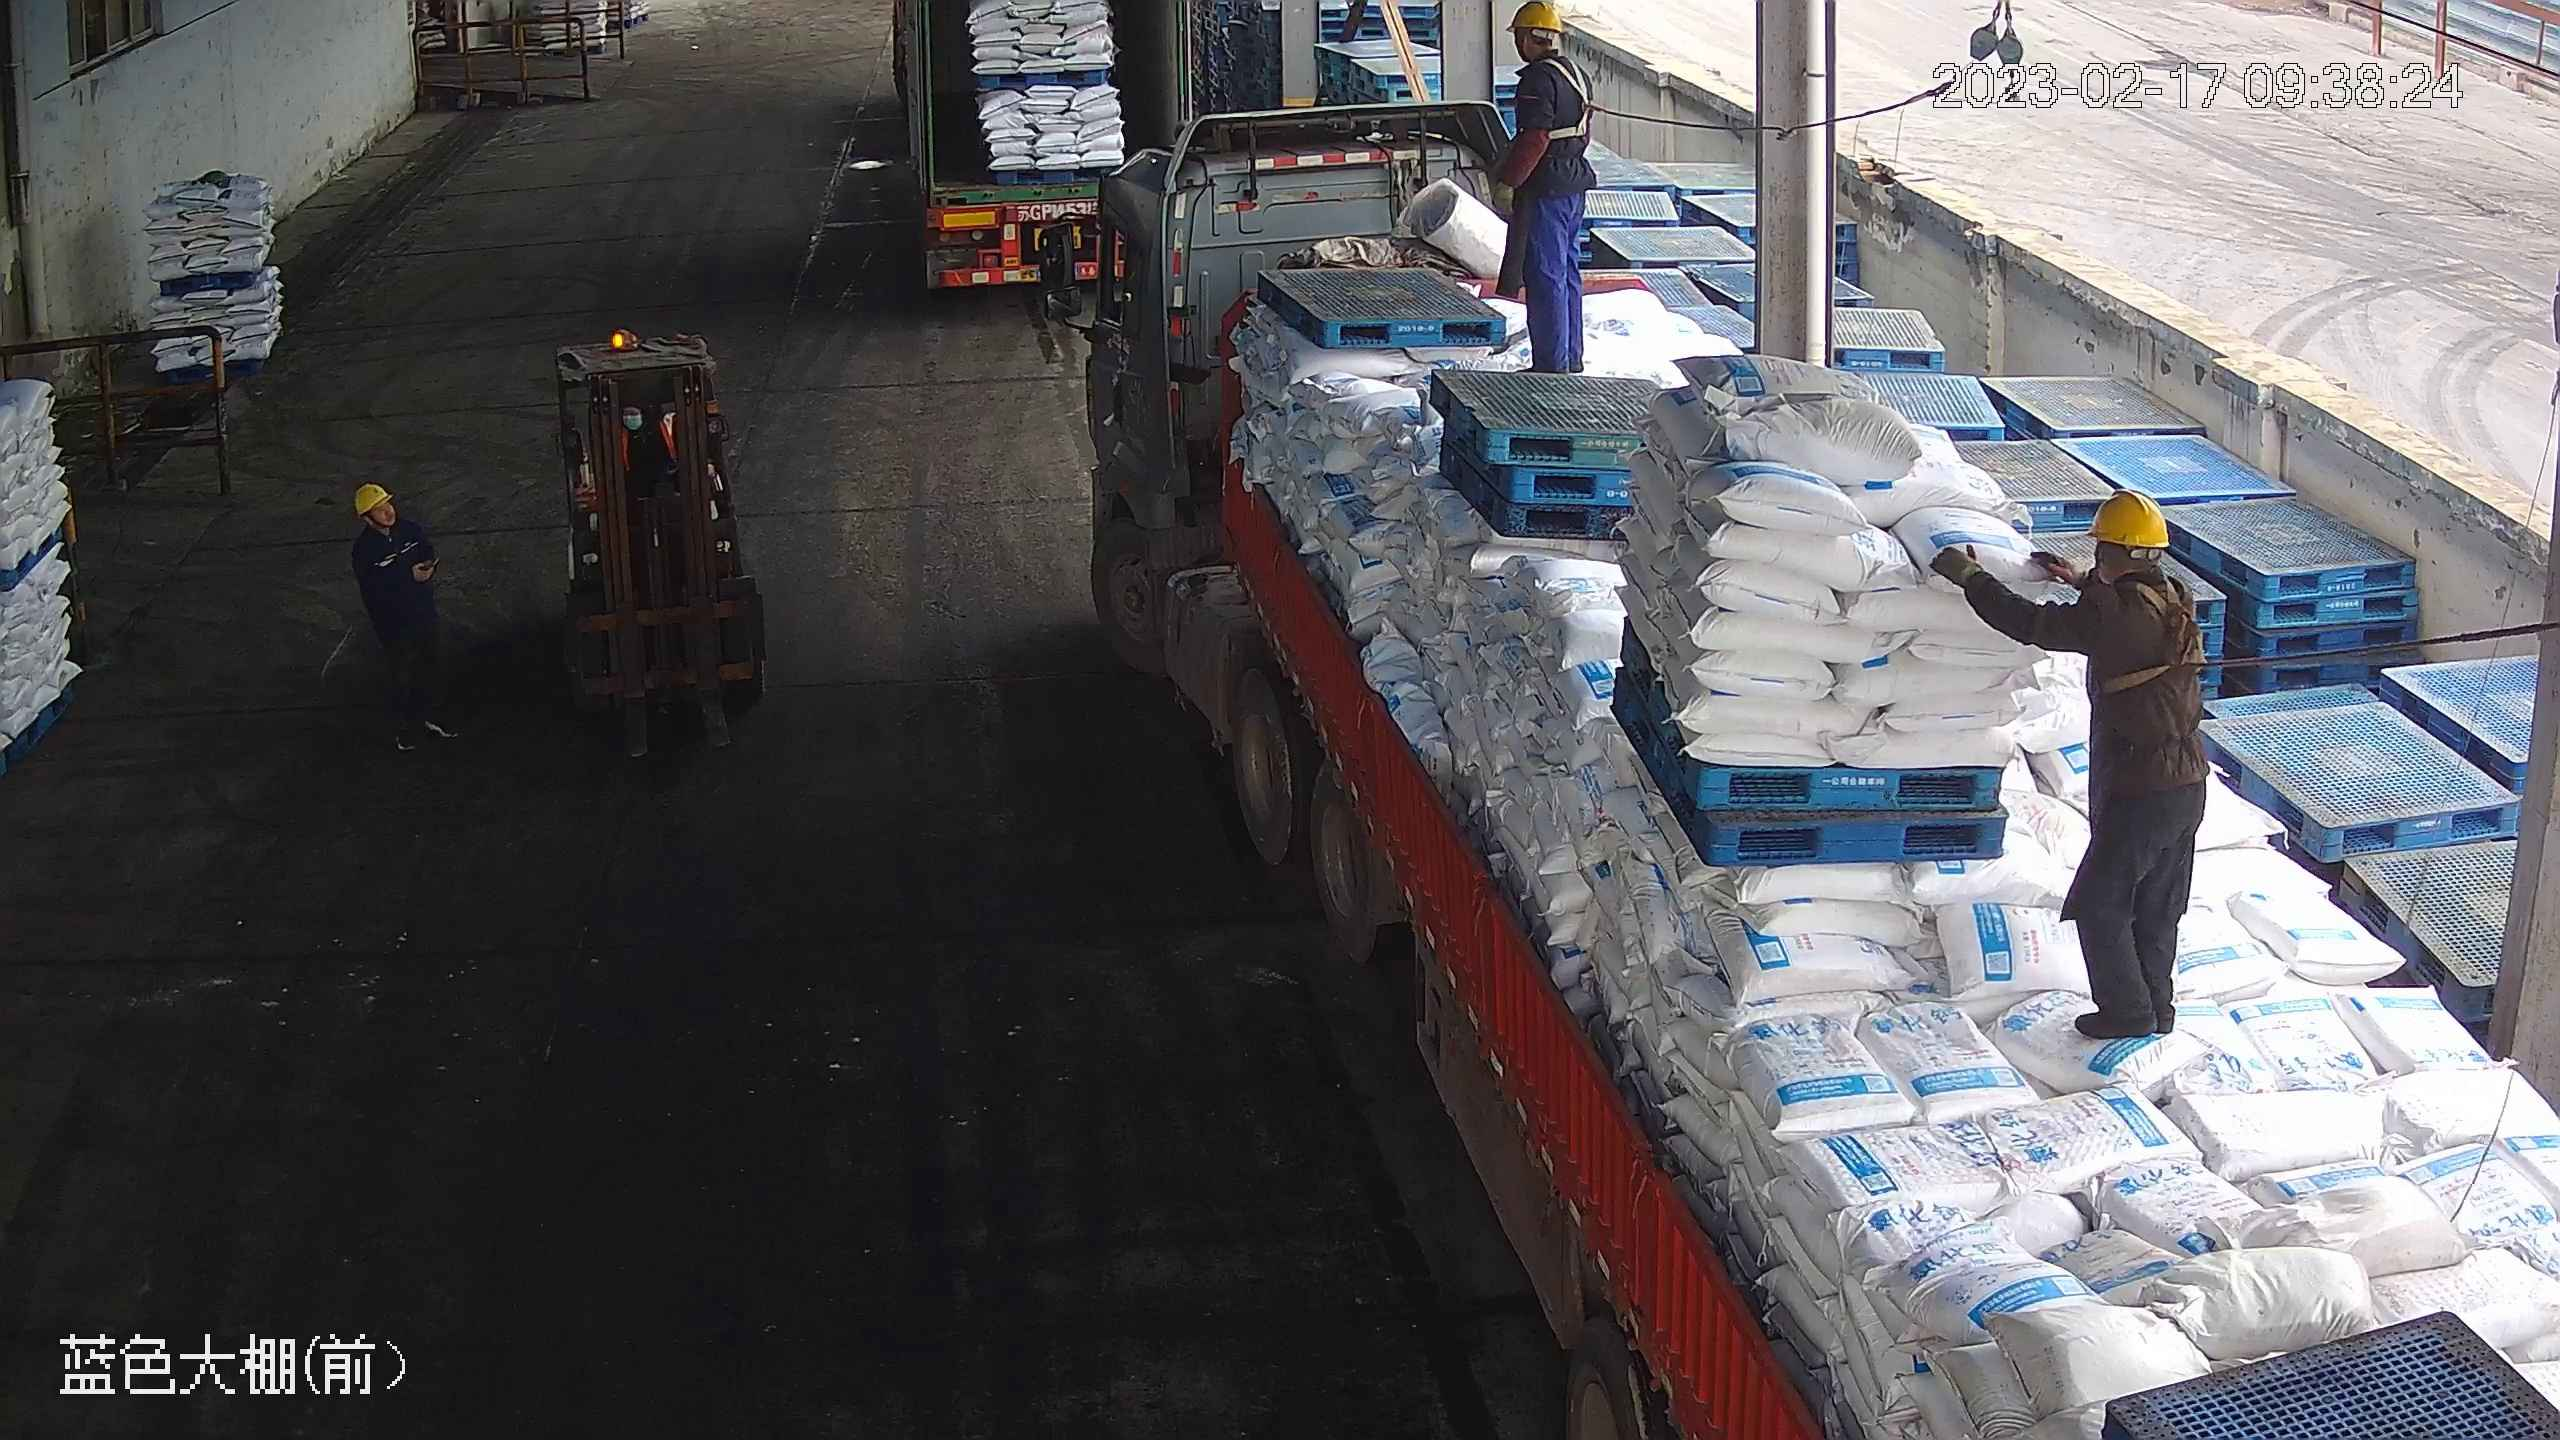belt: (2106, 572, 2216, 690), (1532, 56, 1600, 145)
head: (2057, 488, 2200, 655), (1497, 1, 1590, 97), (349, 481, 434, 561)
helmet: (2085, 486, 2170, 550), (1508, 1, 1562, 36), (348, 478, 392, 514)
people: (1933, 488, 2209, 1044), (1488, 1, 1599, 371), (351, 483, 459, 743)
truck: (1038, 96, 2557, 1436), (887, 1, 1187, 289)
